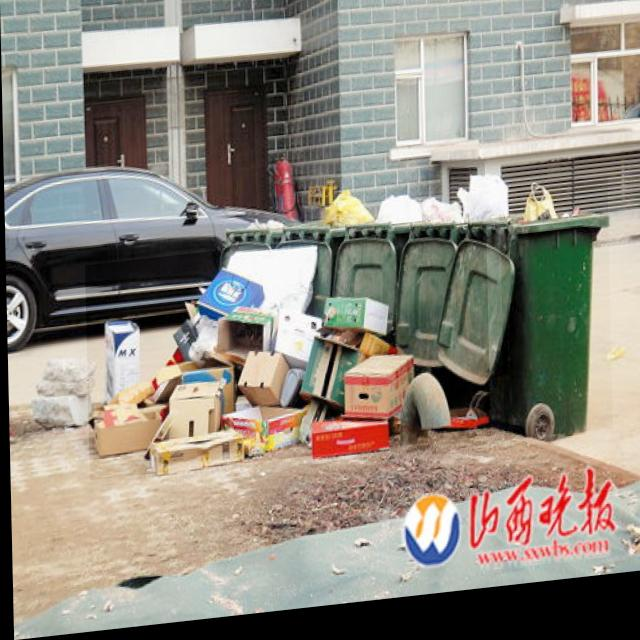garbage: (84, 232, 488, 482)
overflow: (498, 190, 611, 452)
